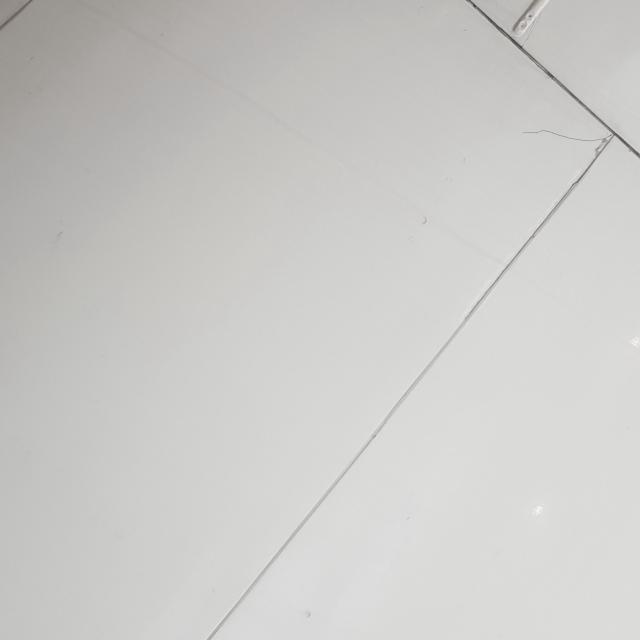crack: (504, 119, 617, 147)
